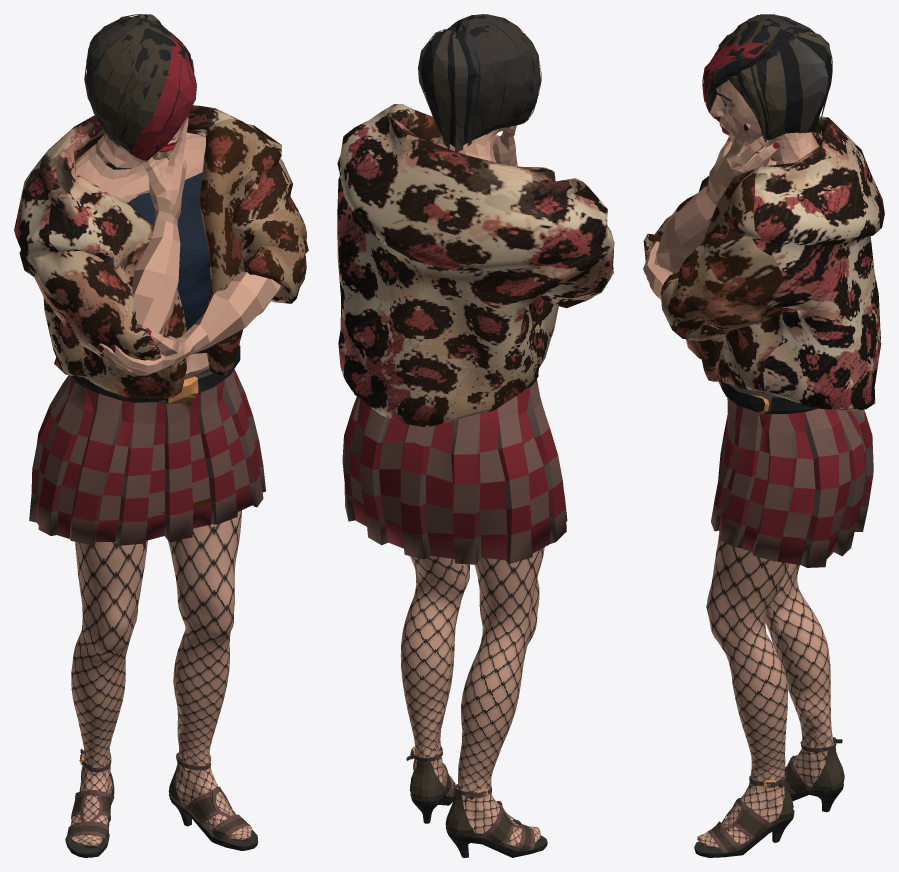
File: a_placeholder.fbx
The picture shows the model from 3 angles, left to right: view 1: azimuth 30°, elevation 25°; view 2: azimuth 150°, elevation 25°; view 3: azimuth 270°, elevation 25°; orthographic projection. The views are drawn at different scales.
Parts seen in each view (by area): view 1: a_placeholder; view 2: a_placeholder; view 3: a_placeholder.
Boxes of the visible parts, x1,y1,x2,y2 form: a_placeholder: (14, 14, 308, 857); a_placeholder: (337, 14, 614, 857); a_placeholder: (643, 14, 884, 857).
Size of the model in its own units: 65.29 by 197 by 54.07.
